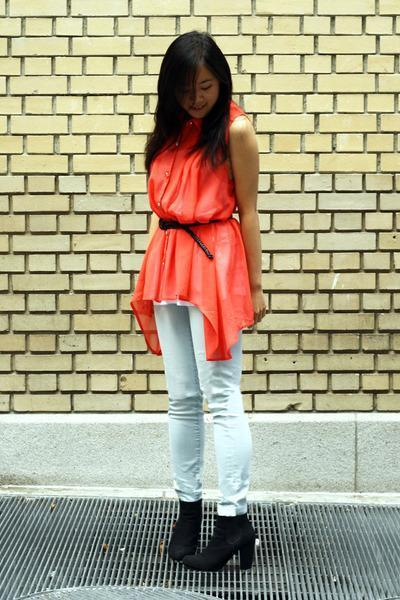dress: (130, 122, 268, 361)
pants: (155, 299, 311, 519)
shoe: (168, 499, 256, 579)
